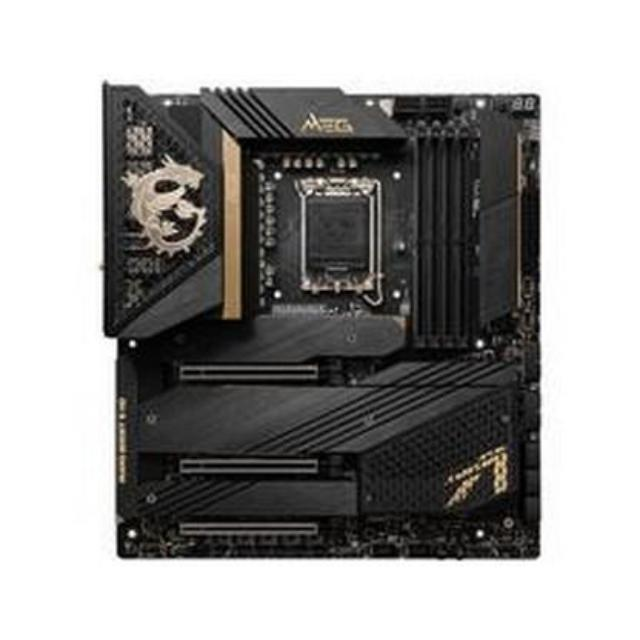Mainboard: (95, 66, 550, 572)
